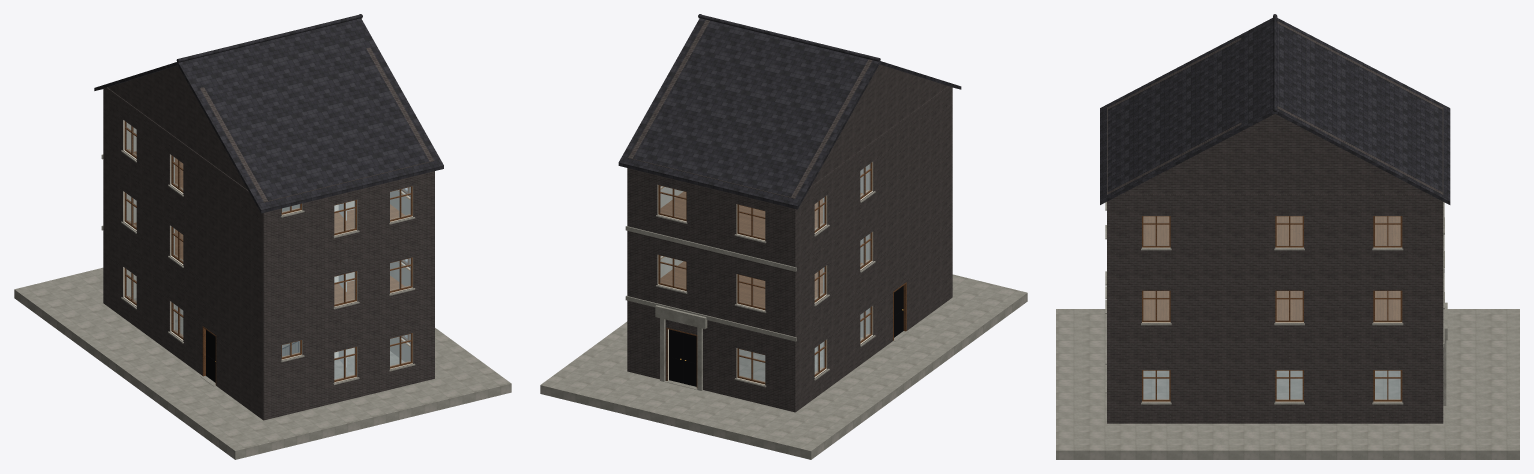
File: b_shanghai_shikumen.gltf
3 views of the same model, side by side, from view 1: azimuth 30°, elevation 25°; view 2: azimuth 150°, elevation 25°; view 3: azimuth 270°, elevation 25° (orthographic). The views are drawn at different scales.
Visible parts, largest first — view 1: S_shanghai_shikumen; view 2: S_shanghai_shikumen, D_shanghai_shikumen_F1_S1_Door0, D_shanghai_shikumen_F1_S1_Door1; view 3: S_shanghai_shikumen.
Boxes of the visible parts, bbox=[...] form: S_shanghai_shikumen: bbox=[14, 14, 511, 459]; S_shanghai_shikumen: bbox=[540, 14, 1027, 459]; D_shanghai_shikumen_F1_S1_Door0: bbox=[669, 329, 683, 383]; D_shanghai_shikumen_F1_S1_Door1: bbox=[683, 333, 696, 386]; S_shanghai_shikumen: bbox=[1056, 14, 1519, 459].
Size of the model in its own units: 13 by 14.08 by 18.
Materials: 17 (11 with a texture image).
